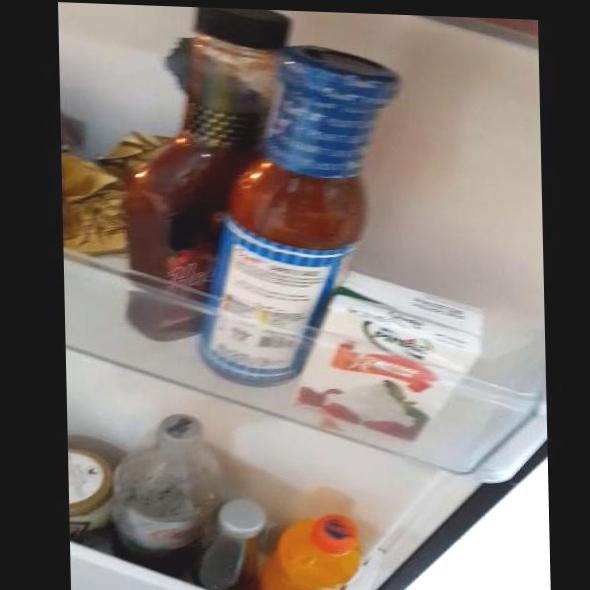cream: (323, 275, 460, 424)
sauce: (202, 54, 381, 381), (122, 29, 243, 337)
